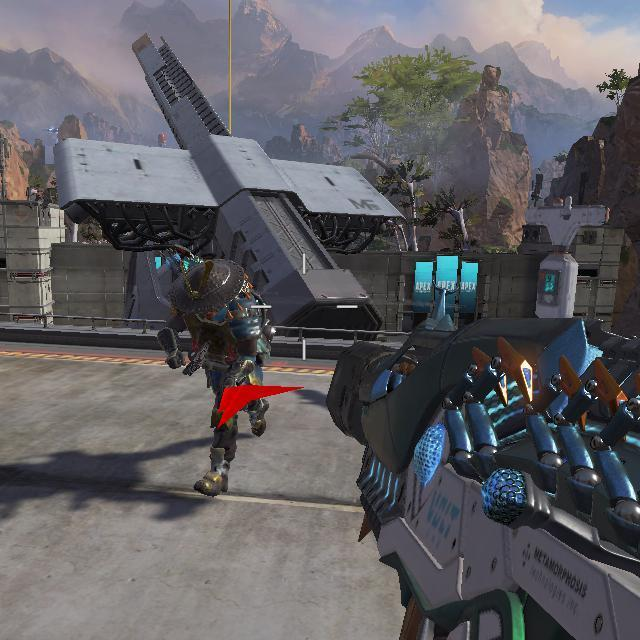avatar: (154, 255, 272, 501)
